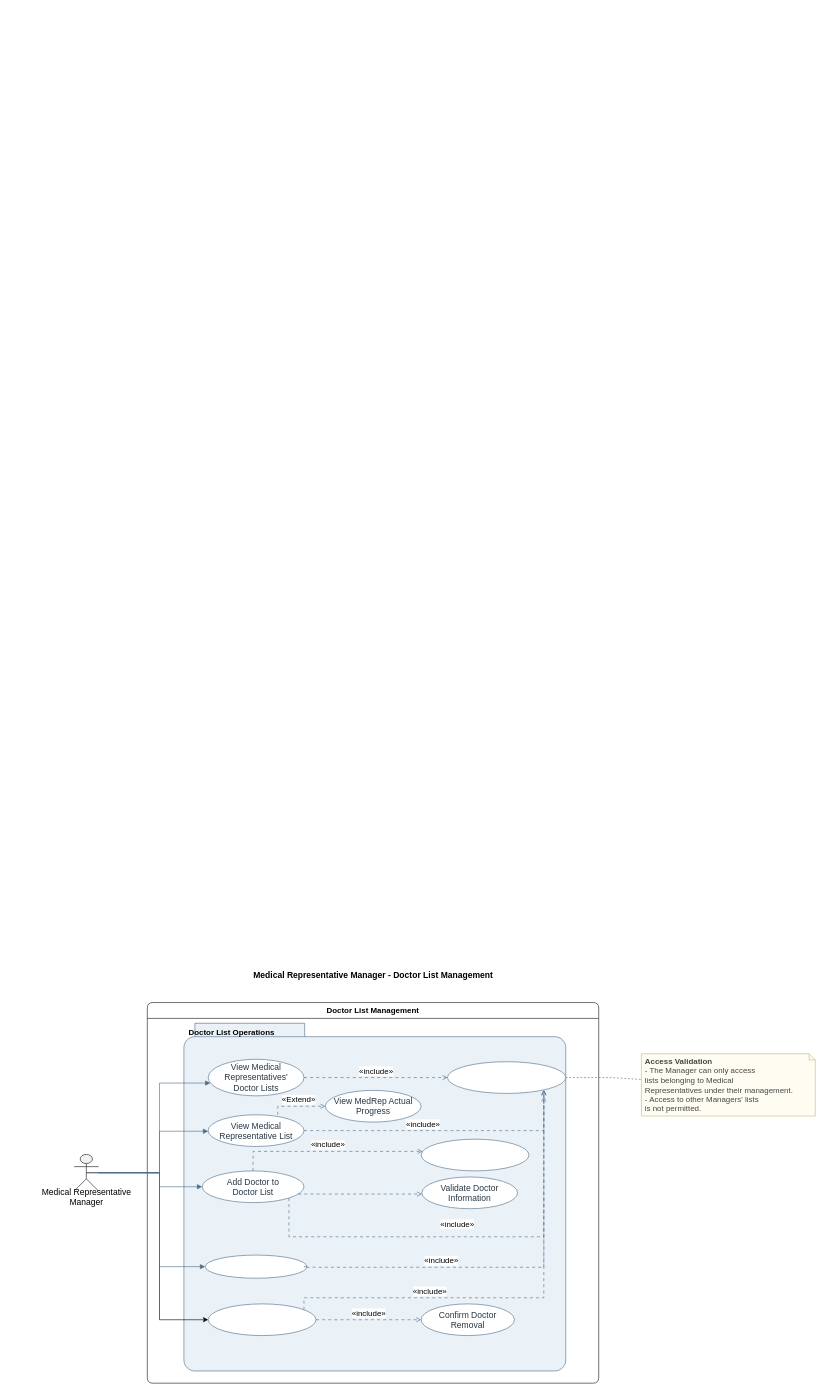
The diagram is 826 pixels wide and 1394 high, and some of its shapes have lost their labels. Each missing label, with the centre of its shape:
"Check for Duplicate Doctor Entry" belongs at point 475,1155.
"Remove Doctor from Doctor List" belongs at point 262,1319.
"Validate Manager's Team Access" belongs at point 506,1077.
"View Doctor Profile" belongs at point 256,1266.
